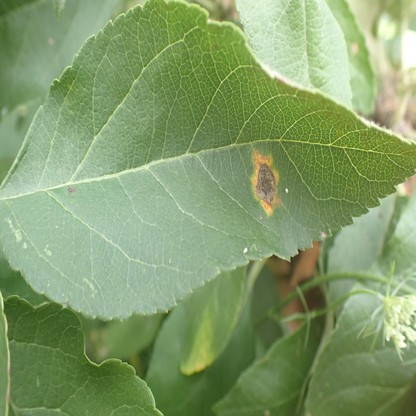rust: (250, 151, 280, 216)
